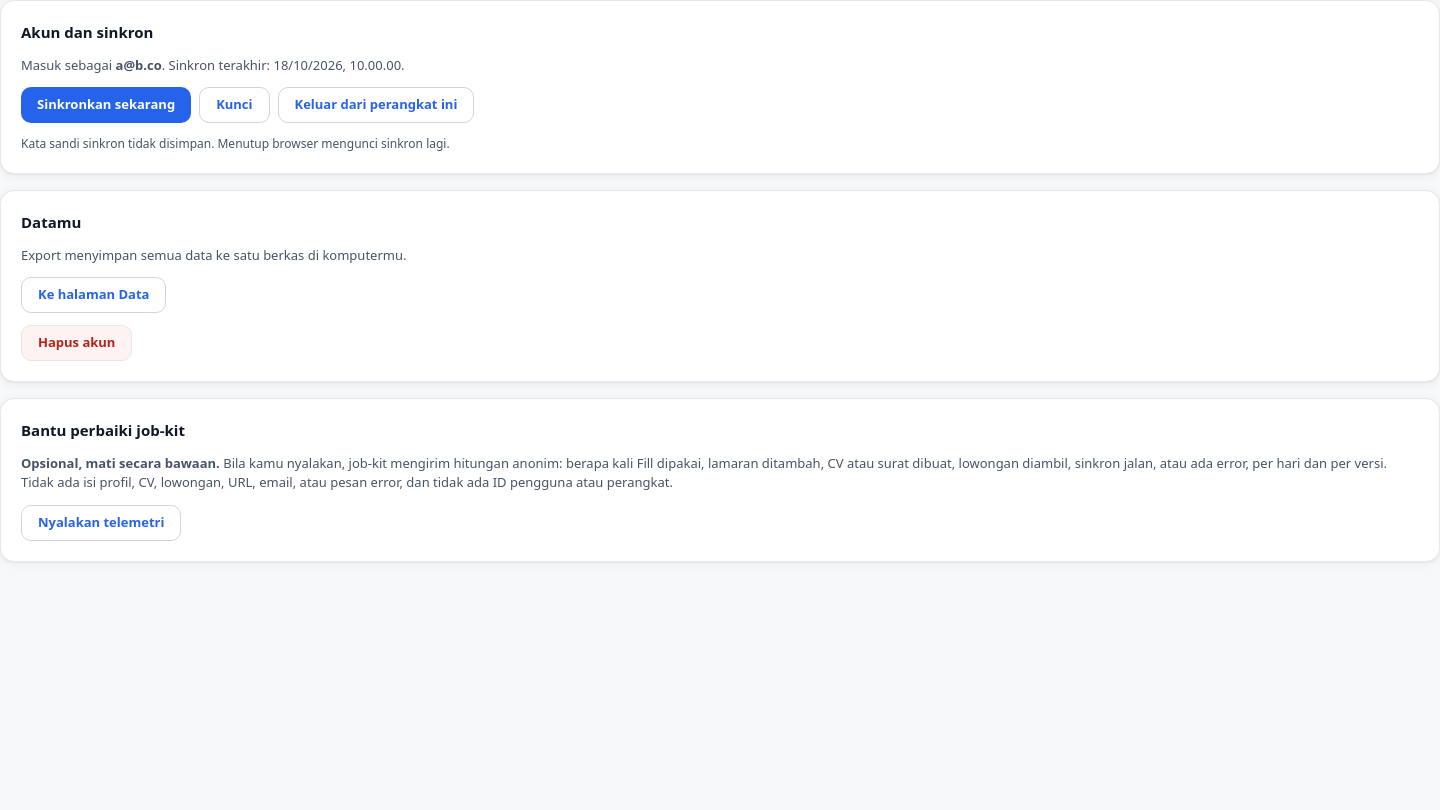
Test: AccountPage › syncs and says what moved
The image size is (1440, 810).
Click the button "Sinkronkan sekarang": (106, 105) [21,87,191,123]
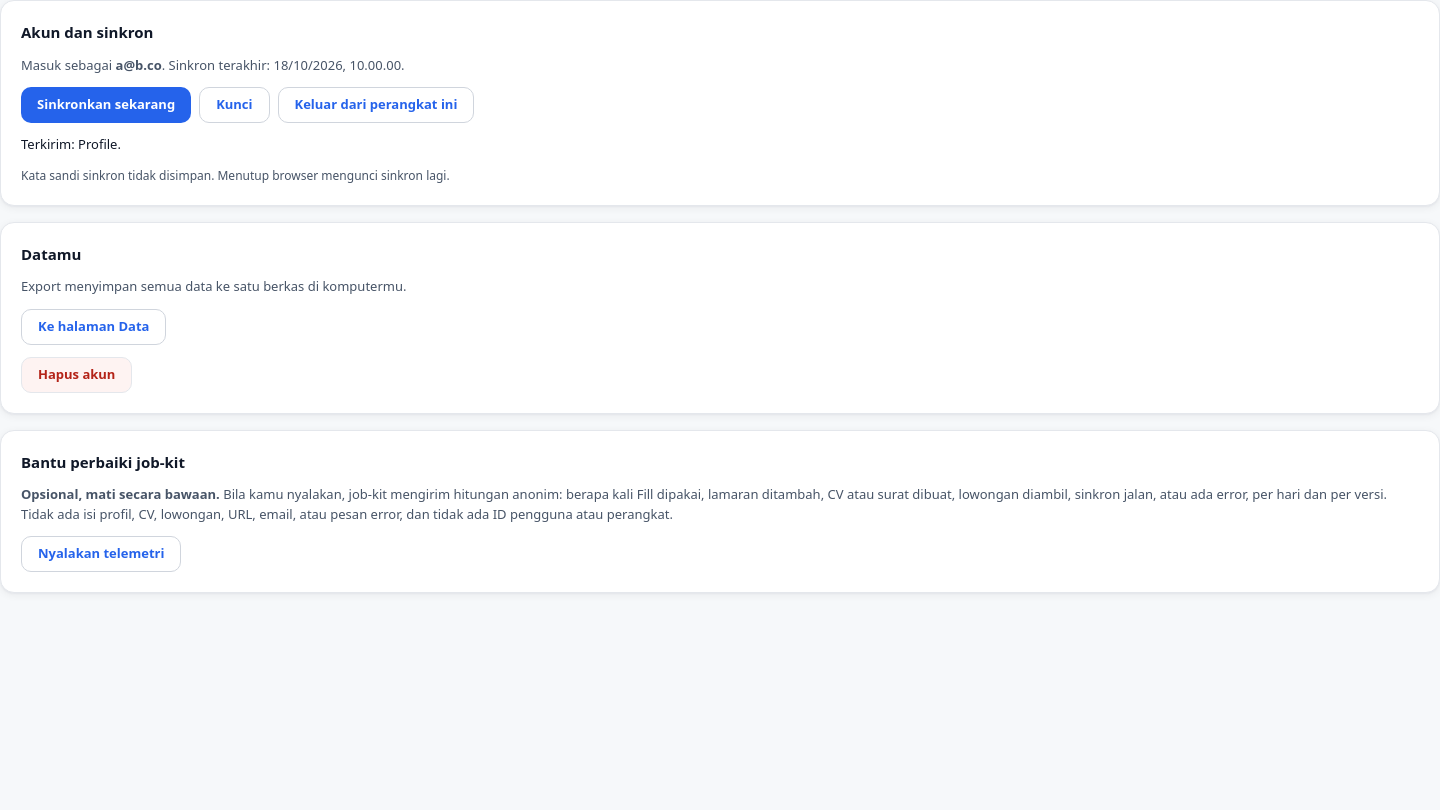
Expected: the text "Terkirim: Profile." is shown, [21,135,121,153]
